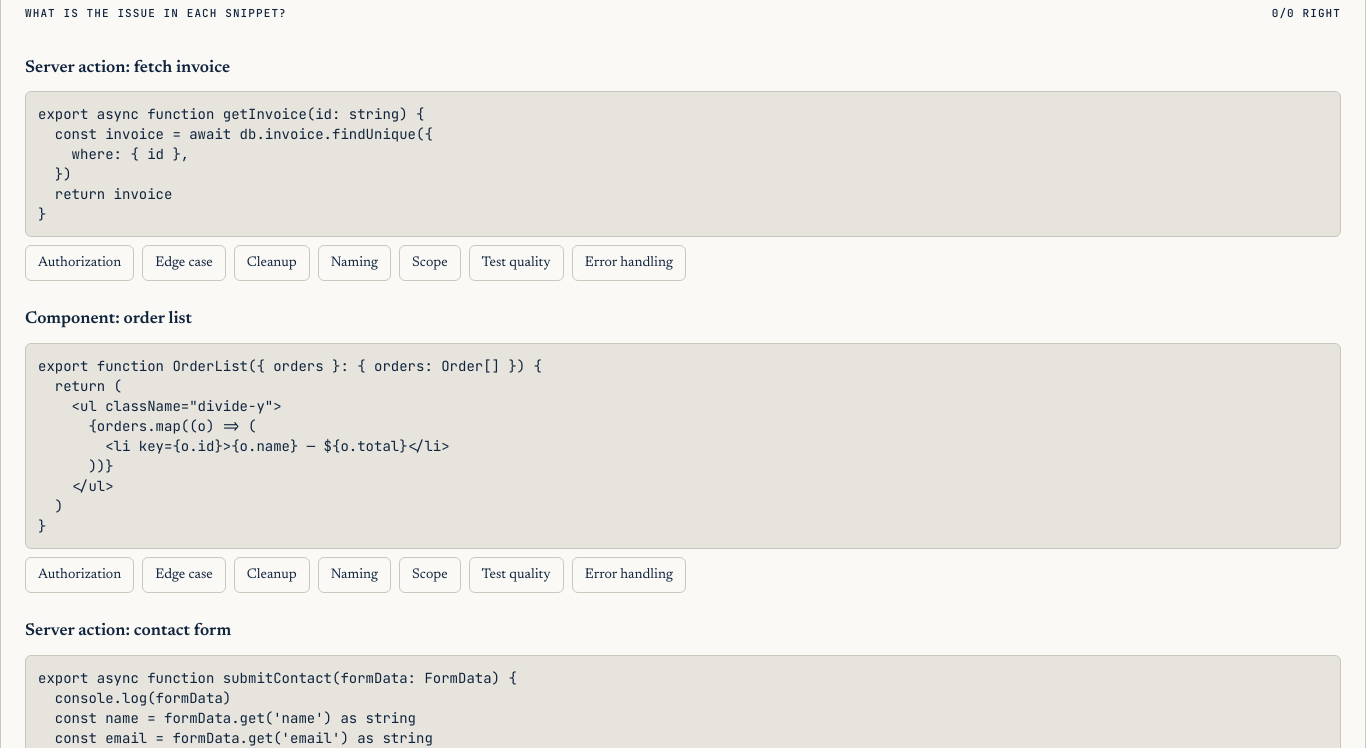
Test: ReviewDrill › full score after all correct answers
Click the radio button labelled "Authorization" below "Server action: fetch invoice" at (80, 263), box [25,245,134,281]
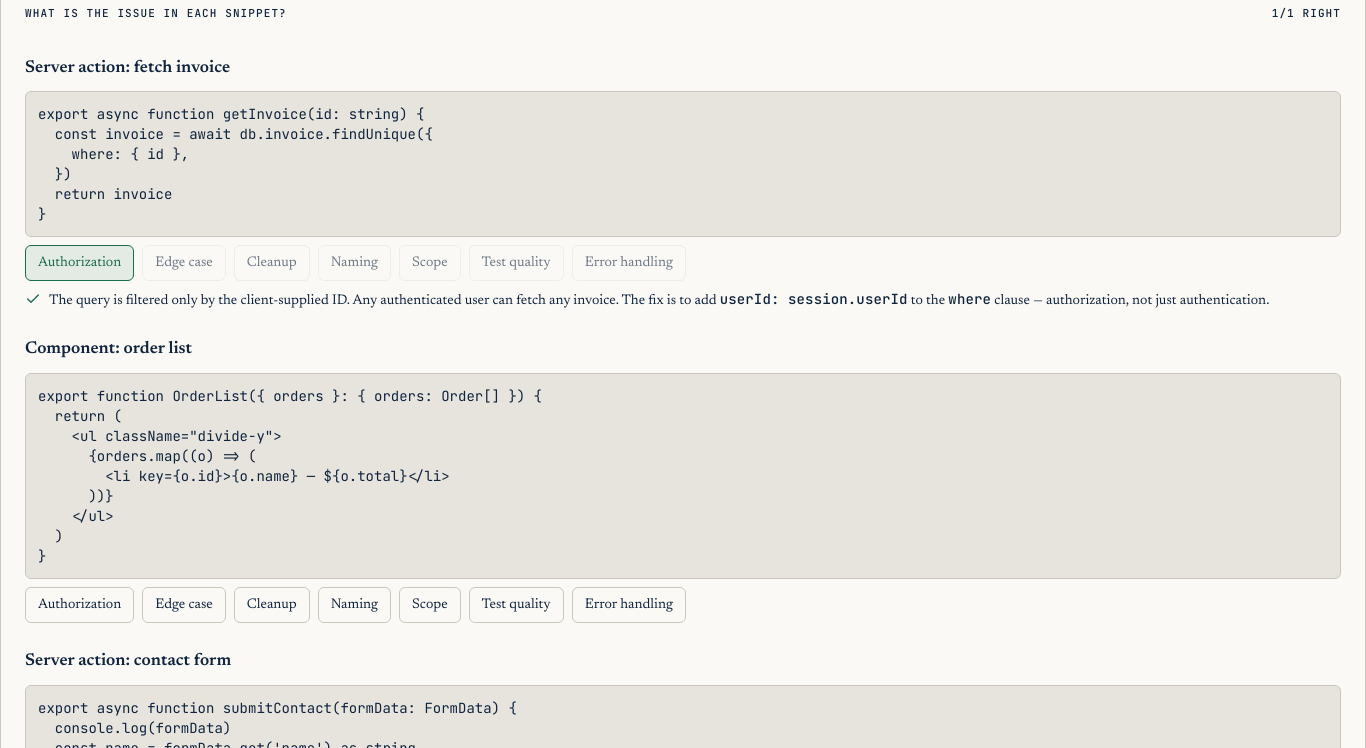
Click the radio button labelled "Edge case" below "Component: order list" at (184, 605), box [142,587,226,623]
(page scrolled)
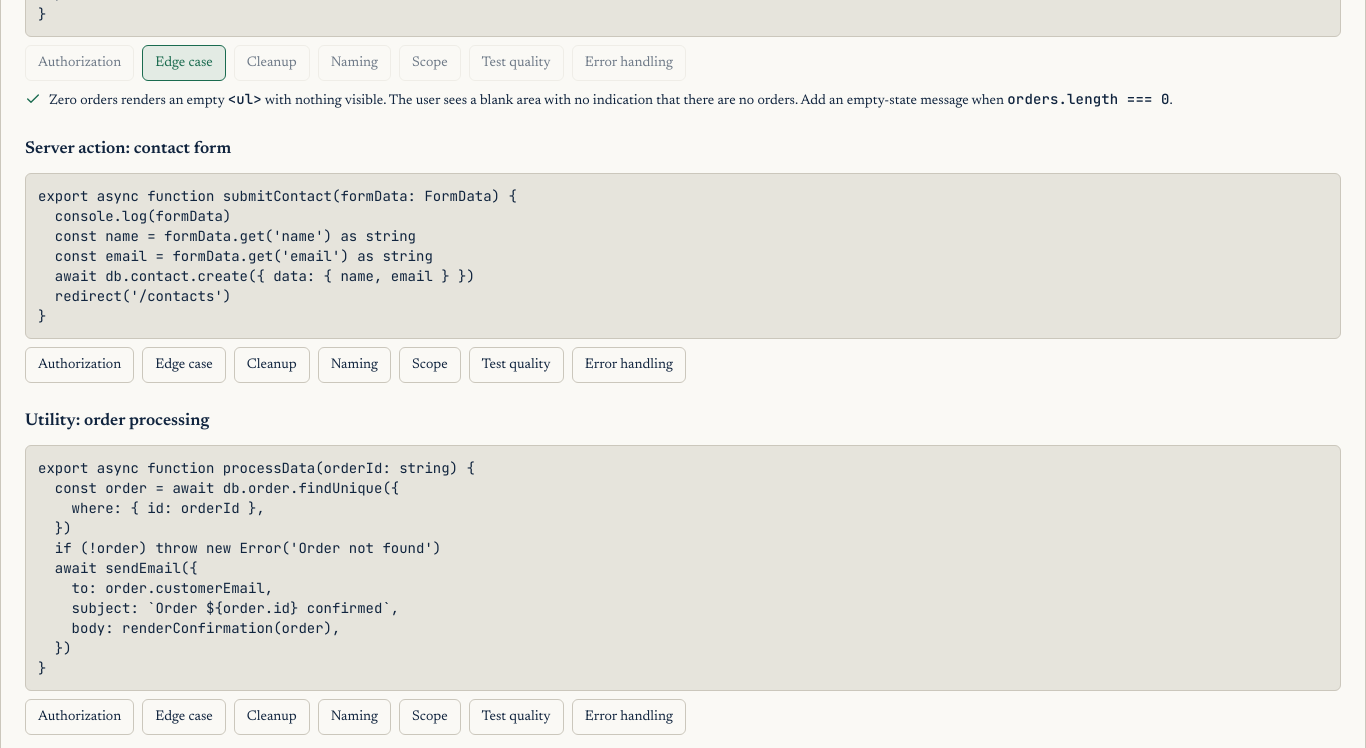
Click the radio button labelled "Cleanup" below "Server action: contact form" at (272, 365), box [234,347,310,383]
(page scrolled)
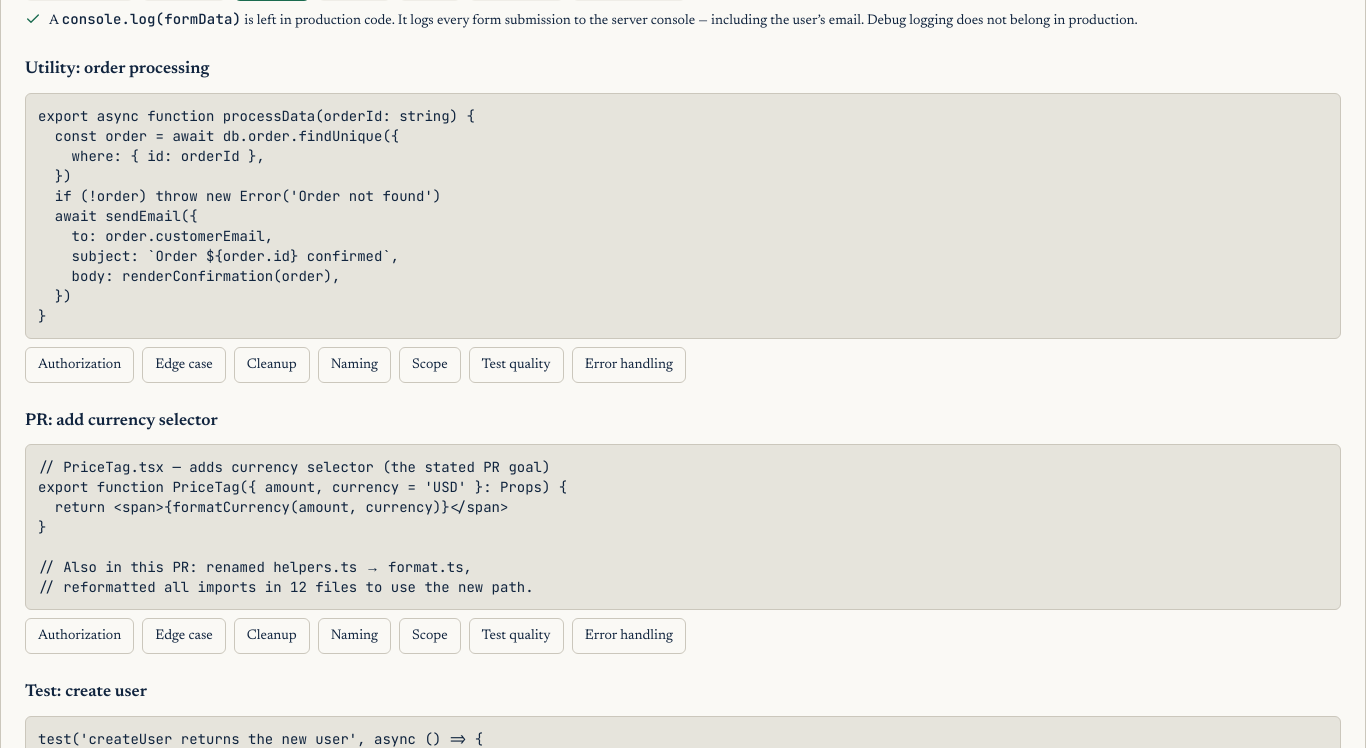
Click the radio button labelled "Naming" below "Utility: order processing" at (354, 364), box [318,346,391,382]
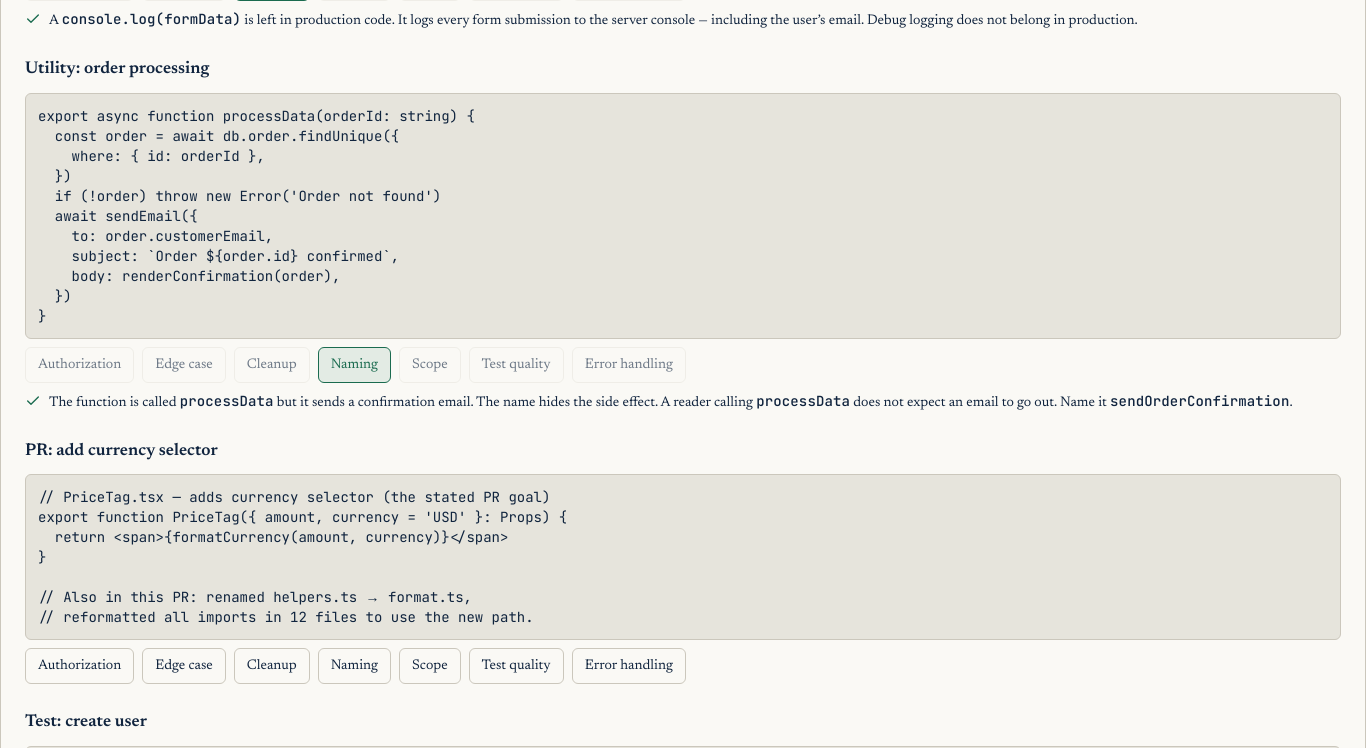
Click the radio button labelled "Scope" below "PR: add currency selector" at (430, 666), box [399,648,461,684]
(page scrolled)
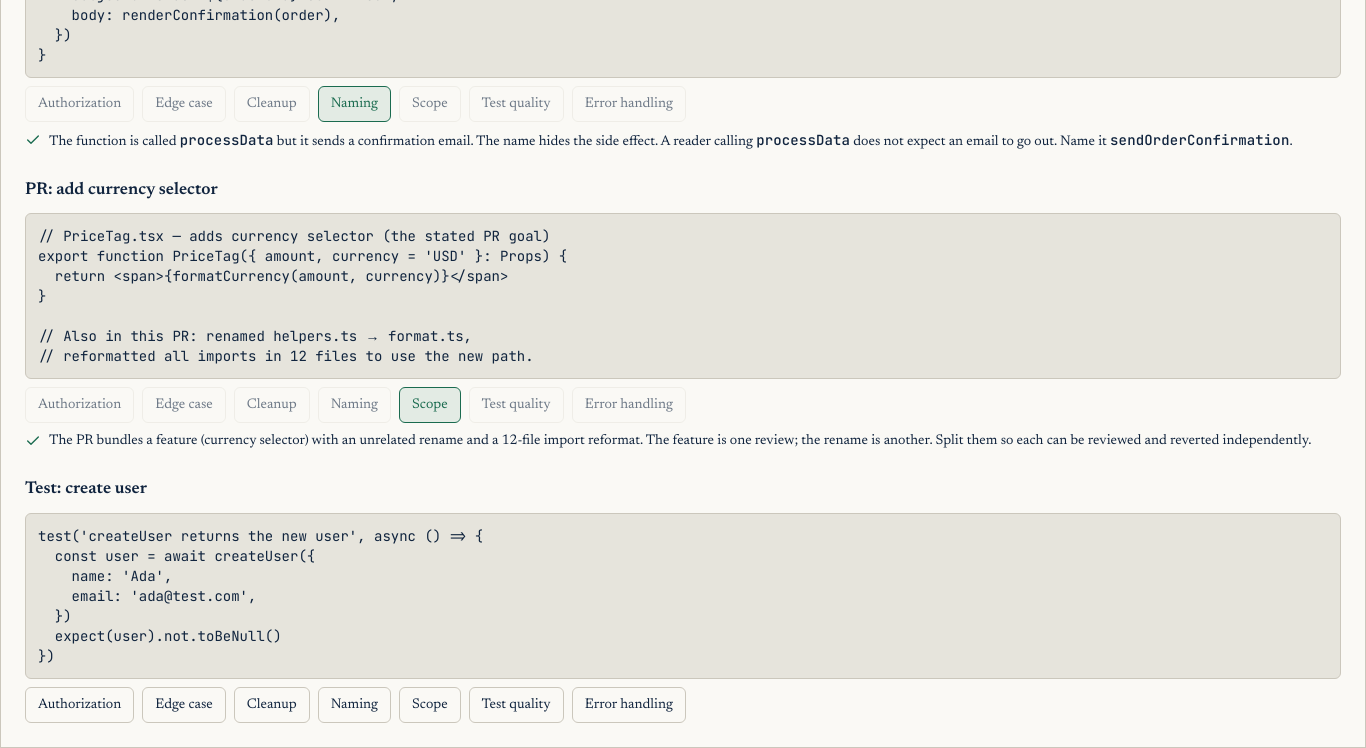
Click the 3rd radio button labelled "Test quality" at (516, 705), box [469,687,564,723]
(page scrolled)
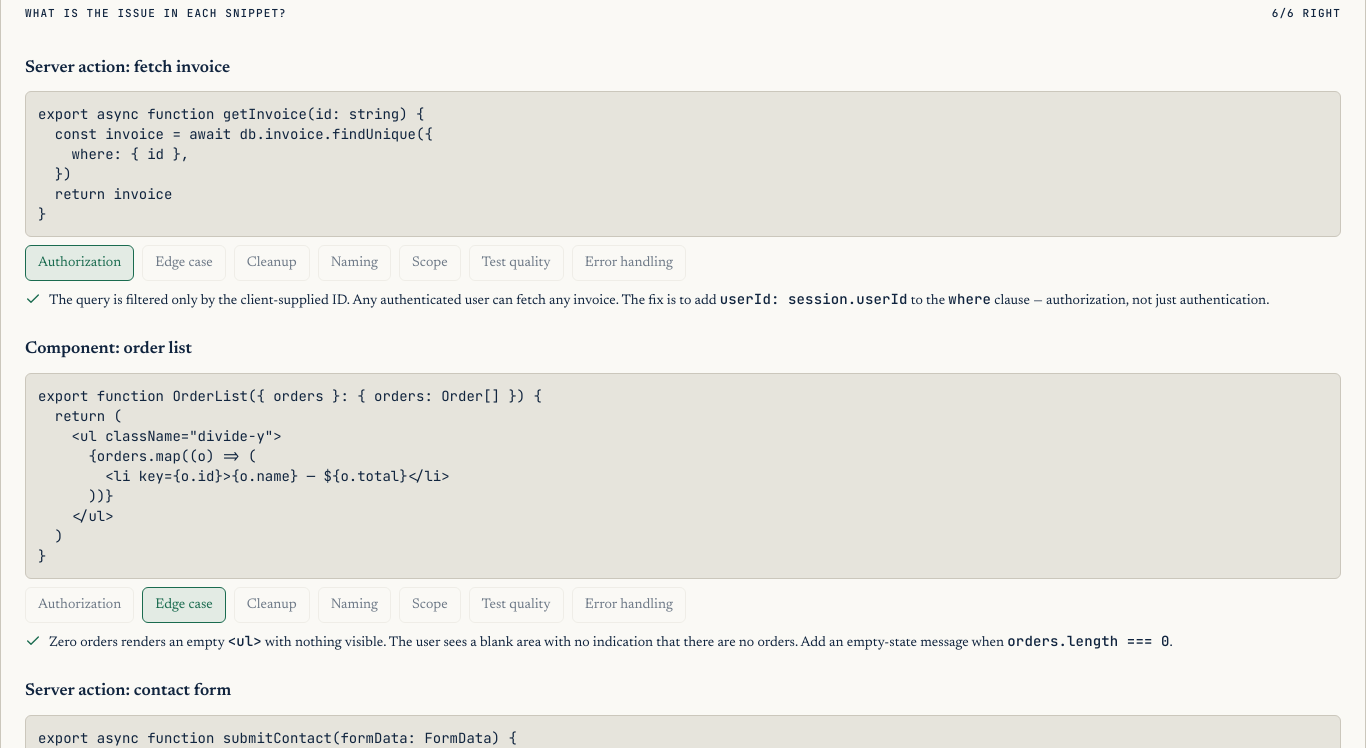
Expected: the text "6/6 right" is shown, [1272,5,1341,22]
